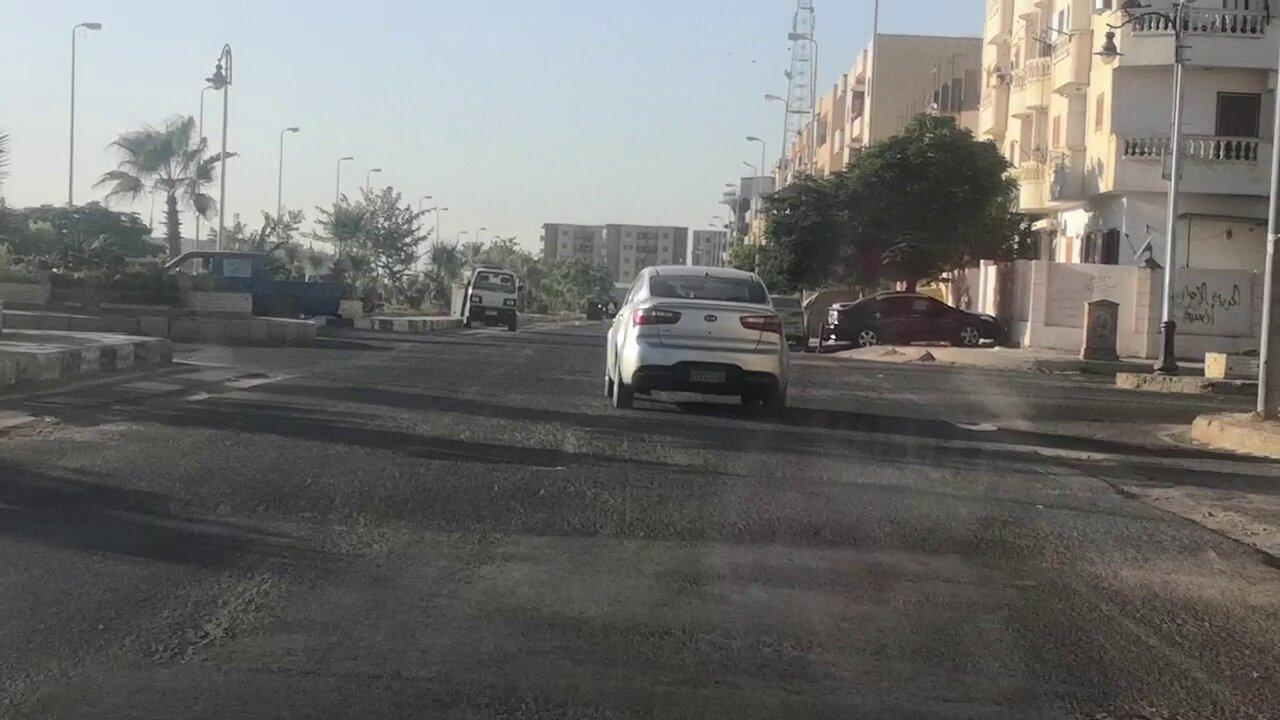Bump: (45, 445, 1225, 577)
